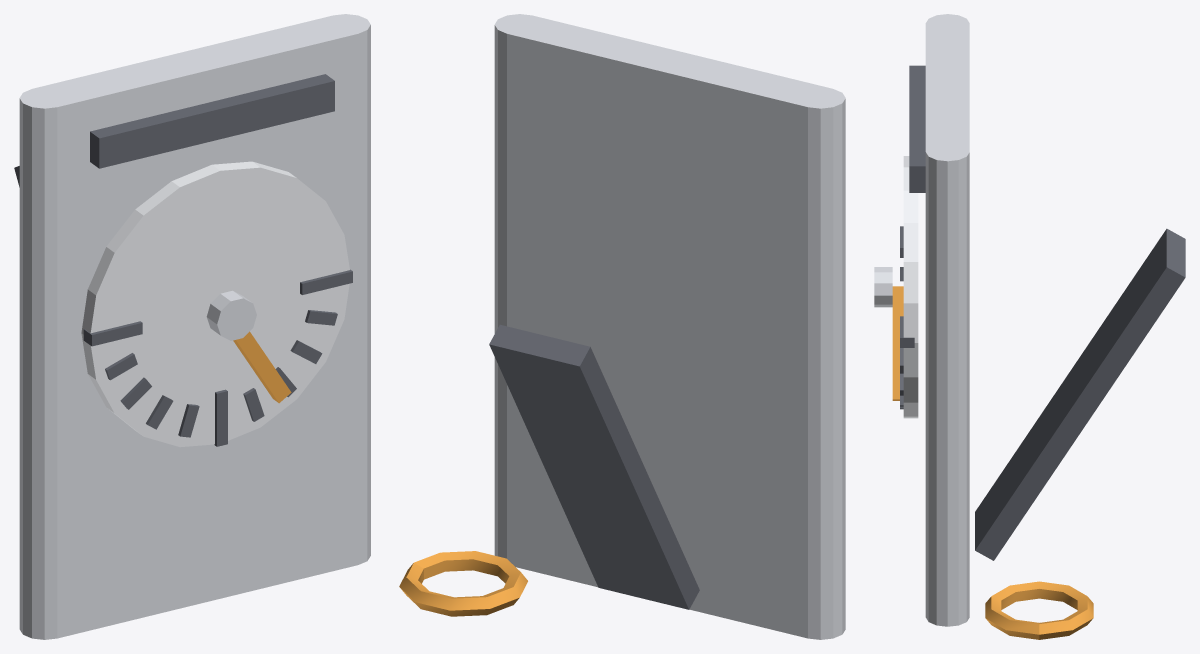
Rendered from backcountry-snowboarding-and-avalanche-safety-slope-in-59fc57f7__18939.glb.
The picture shows the model from 3 angles, left to right: view 1: azimuth 30°, elevation 25°; view 2: azimuth 150°, elevation 25°; view 3: azimuth 270°, elevation 25°; orthographic projection. The views are drawn at different scales.
Parts seen in each view (by area): view 1: slope-inclinometer; view 2: slope-inclinometer; view 3: slope-inclinometer.
Boxes of the visible parts, x1,y1,x2,y2 form: slope-inclinometer: (14,14,370,639); slope-inclinometer: (399,14,845,639); slope-inclinometer: (874,14,1185,639).
Bounding box in the file's own units: 0.211 × 0.28 × 0.1697.
